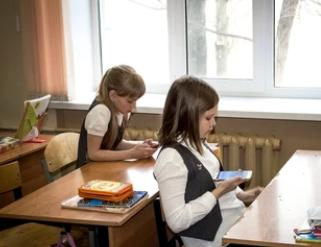phone: (159, 79, 252, 233), (83, 63, 158, 161)
